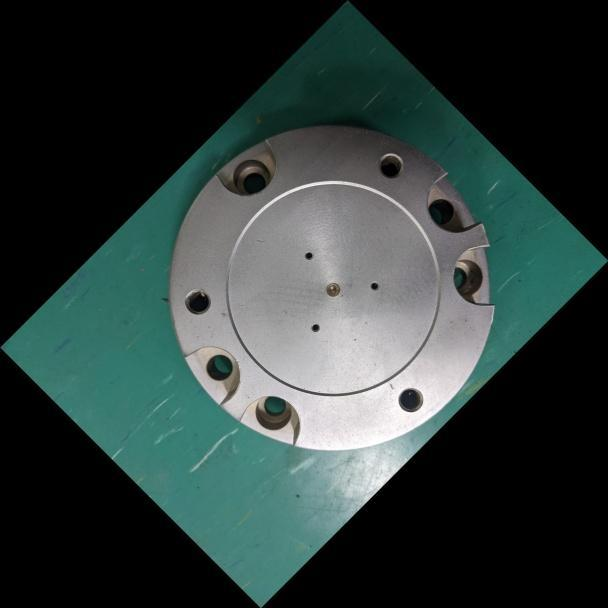hole: (214, 143, 284, 213), (240, 379, 309, 447), (437, 243, 501, 308), (192, 342, 245, 395), (416, 186, 464, 234), (368, 142, 414, 187), (387, 378, 431, 422), (176, 279, 219, 323), (365, 276, 384, 295), (299, 246, 317, 264), (306, 319, 323, 336)
